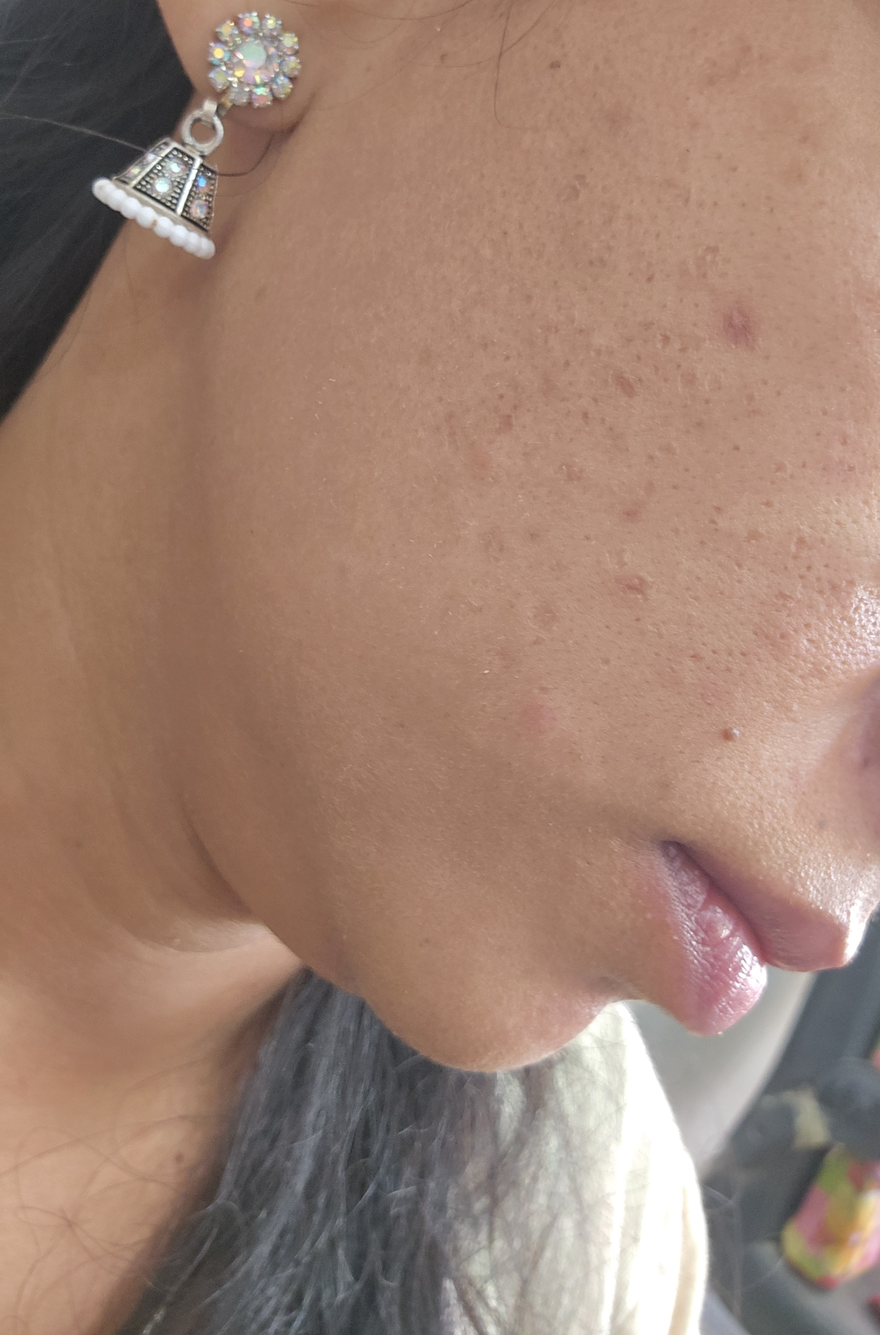papule: (487, 667, 593, 764)
pustule: (701, 280, 778, 388)
